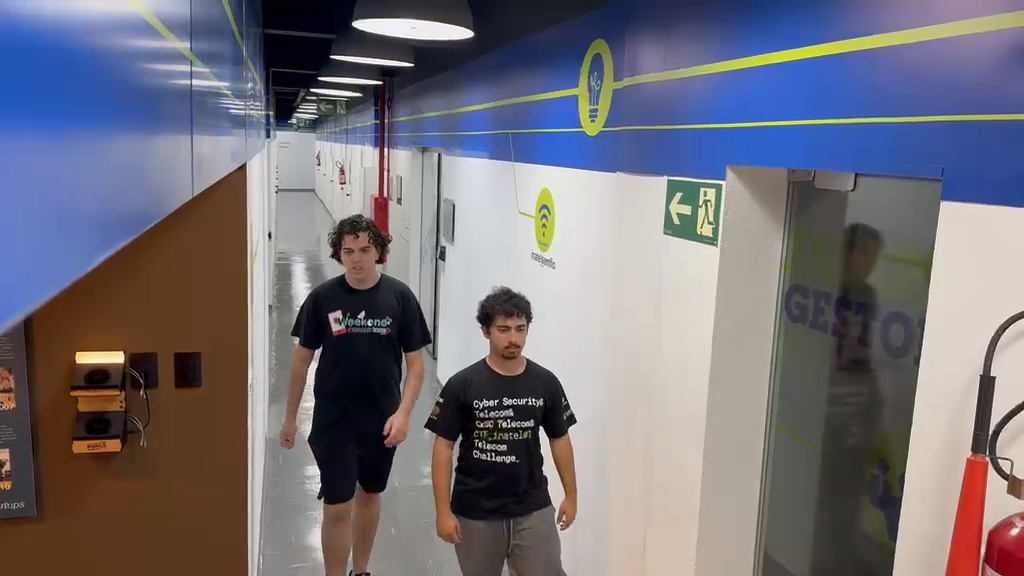person: (280, 212, 433, 573), (423, 285, 579, 573)
